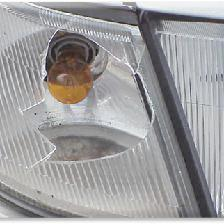head_lamp: (18, 14, 156, 176)
